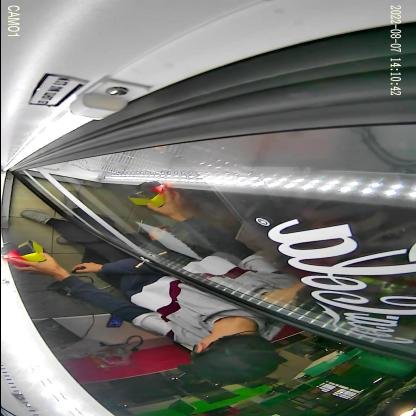red: (0, 242, 31, 267)
yellow: (15, 240, 47, 262)
